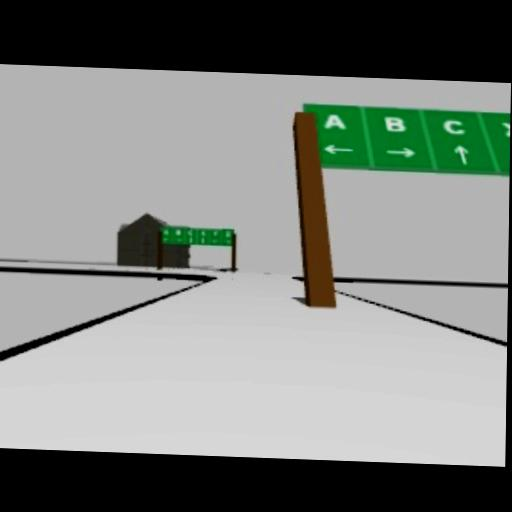A: (320, 110, 349, 132)
B: (381, 115, 410, 135)
C: (441, 118, 468, 136)
Left: (323, 142, 357, 158)
Right: (384, 145, 418, 161)
Straight: (452, 143, 474, 168)
